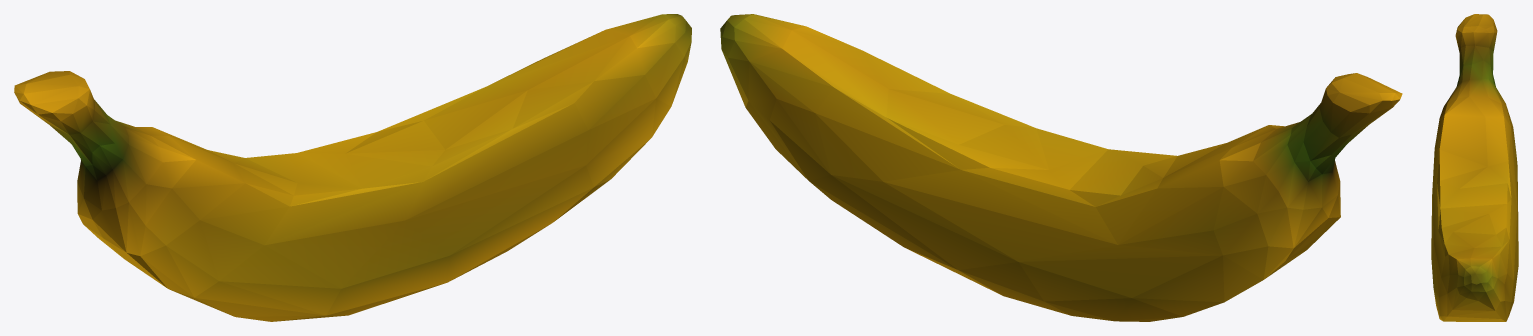
The model's file is Banana.fbx.
The picture shows the model from 3 angles, left to right: view 1: azimuth 30°, elevation 25°; view 2: azimuth 150°, elevation 25°; view 3: azimuth 270°, elevation 25°; orthographic projection. The views are drawn at different scales.
Parts seen in each view (by area): view 1: Banana; view 2: Banana; view 3: Banana.
Boxes of the visible parts, bbox=[...] form: Banana: bbox=[14, 14, 691, 321]; Banana: bbox=[720, 14, 1402, 321]; Banana: bbox=[1431, 14, 1518, 321].
Size of the model in its own units: 384 by 152 by 67.71.
